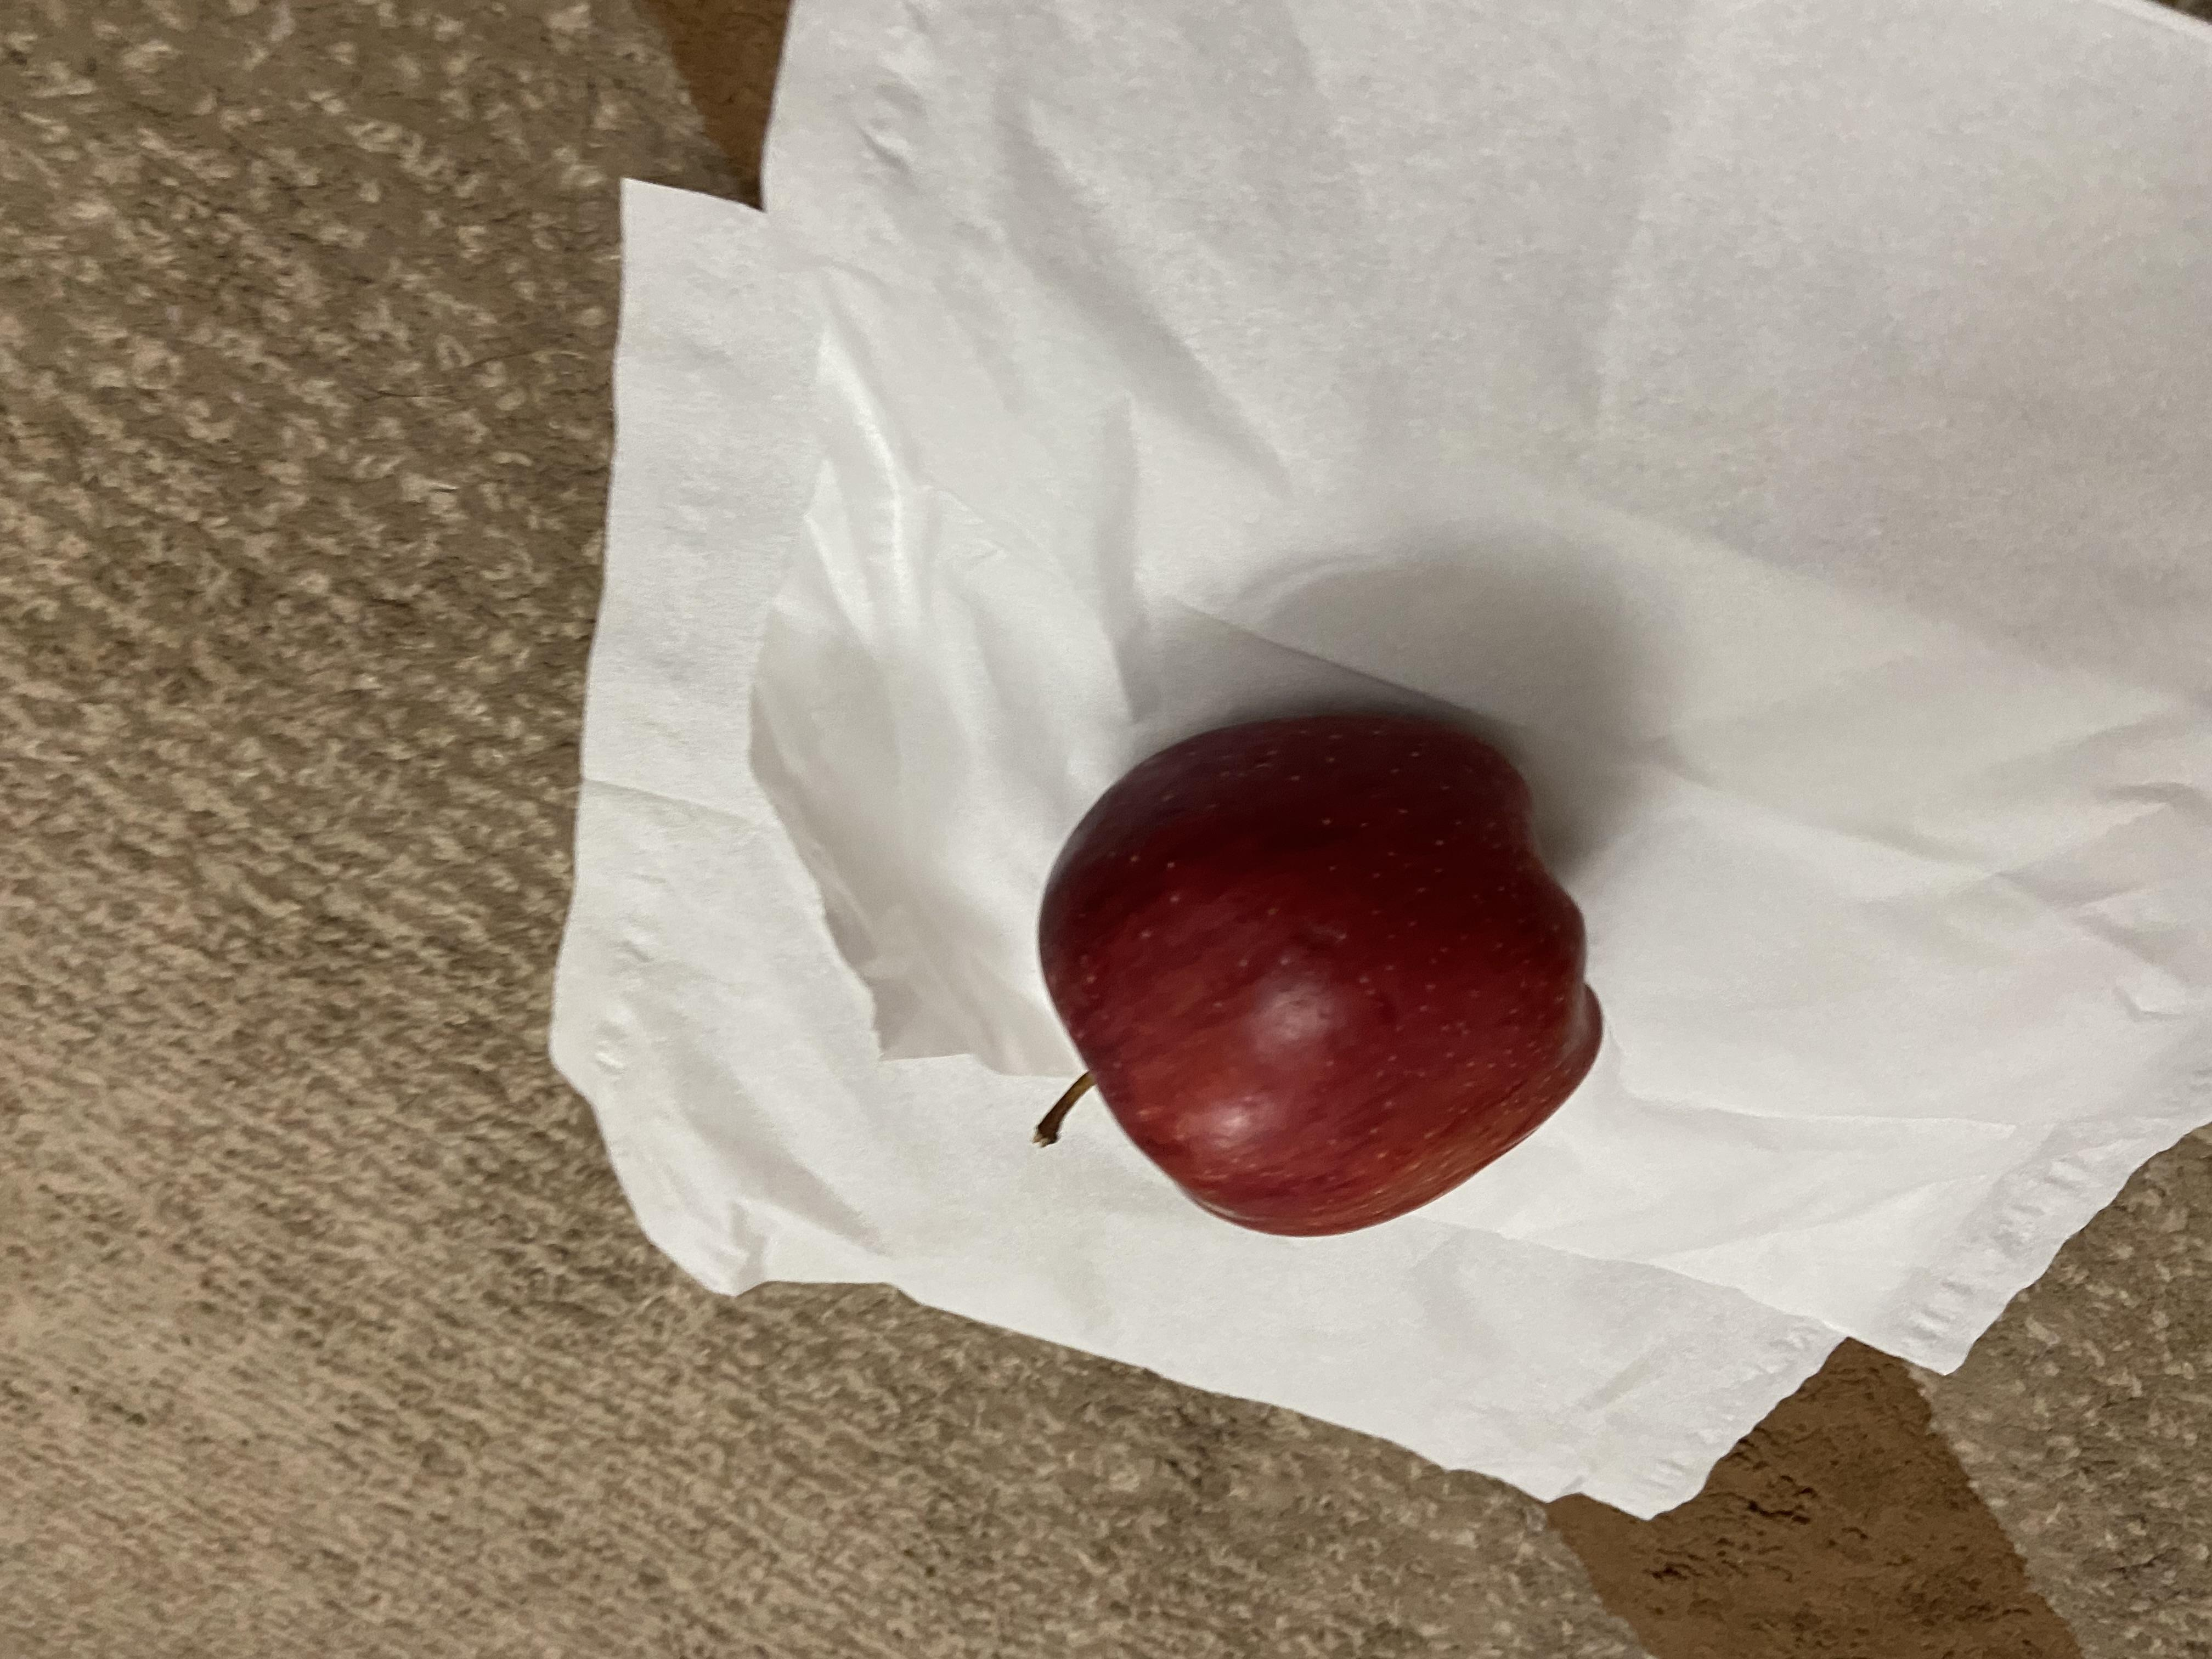Apple: (543, 744, 1310, 1218)
